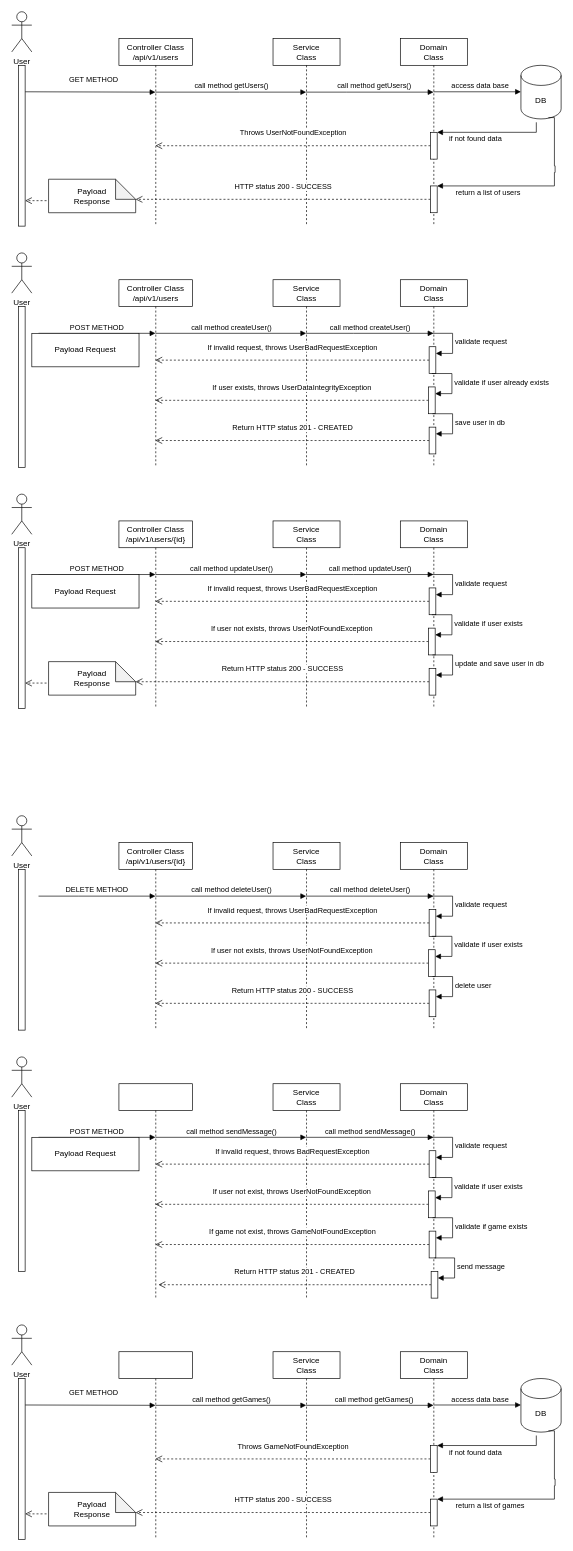
This 573x1551 diagram has some shape labels left out. The shapes that lost their labels are listed below. From the top down, each one's box as (x1, y1, x2, y2) in pixels, then its label:
(118, 1083, 193, 1298): Controller Class /api/v1/exchanges
(118, 1351, 193, 1539): Controller Class /api/v1/games
